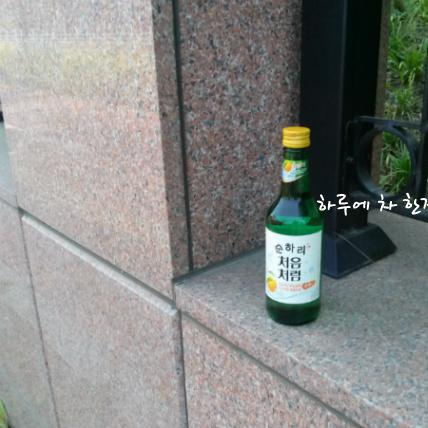soju: (260, 125, 327, 331)
